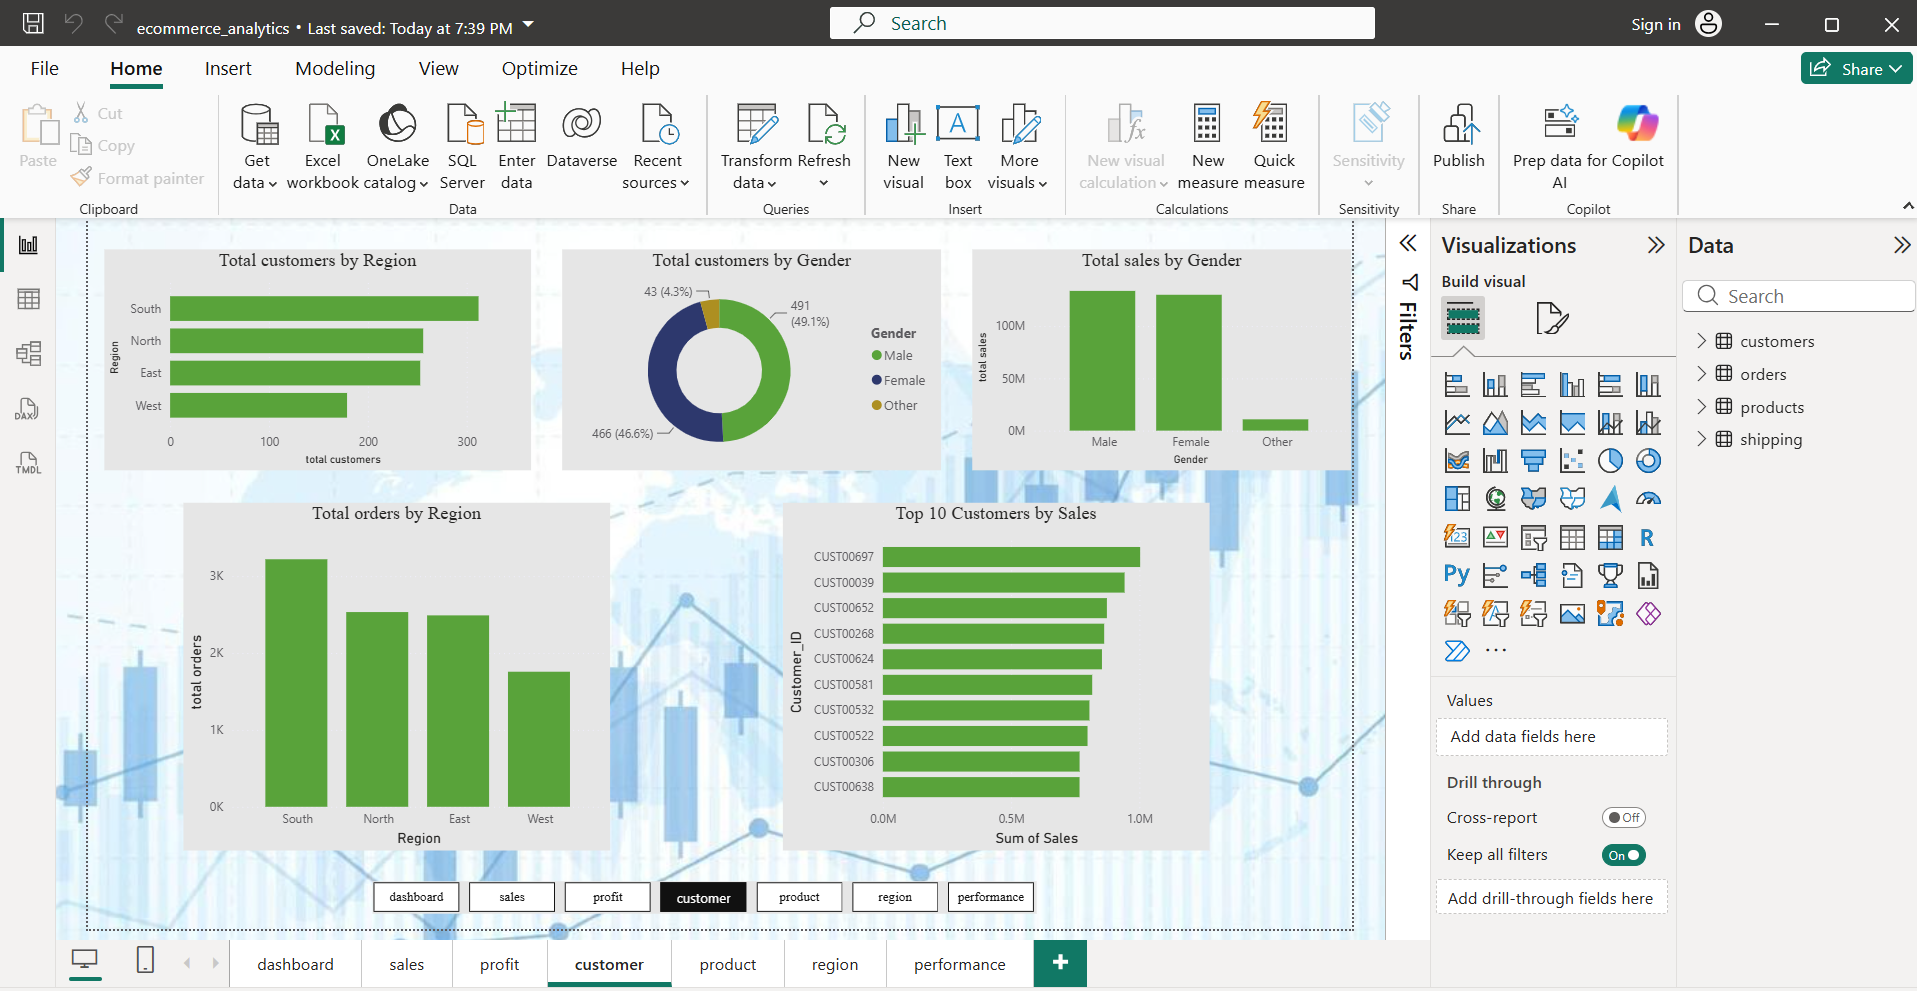

The dashboard page shown, as its layout file describes it:
{"tool":"powerbi","page":{"name":"customer","canvas":[1280,720],"ordinal":3},"visuals":[{"type":"barChart","title":"Total customers by Region","fields":{"Category":[" customers.Region"],"Y":[" orders.total customers"]},"box":[16,32,432,224],"z":0},{"type":"donutChart","title":"Total customers by Gender","fields":{"Y":[" orders.total customers"],"Category":[" customers.Gender"]},"box":[480,32,384,224],"z":1000},{"type":"columnChart","title":"Total sales by Gender","fields":{"Category":[" customers.Gender"],"Y":[" orders.total sales"]},"box":[896,32,384,224],"z":2000},{"type":"columnChart","title":"Total orders by Region","fields":{"Y":[" orders.total orders"],"Category":[" customers.Region"]},"box":[96,288,432,352],"z":3000},{"type":"clusteredBarChart","title":"Top 10 Customers by Sales","fields":{"Category":[" orders.Customer_ID"],"Y":["Sum( orders.Sales)"]},"box":[704,288,432,352],"z":4000},{"type":"pageNavigator","box":[288,672,672,32],"z":5000}]}

Visuals, with their boxes on the page's 1280x720 design canvas (x1, y1, x2, y2). These are canvas units, not pixel positions in the 1917x991 screenshot, which may show the page scaled, cropped or inside an application window:
"Total customers by Region" barChart: [16,32,448,256]
"Total customers by Gender" donutChart: [480,32,864,256]
"Total sales by Gender" columnChart: [896,32,1280,256]
"Total orders by Region" columnChart: [96,288,528,640]
"Top 10 Customers by Sales" clusteredBarChart: [704,288,1136,640]
pageNavigator: [288,672,960,704]
